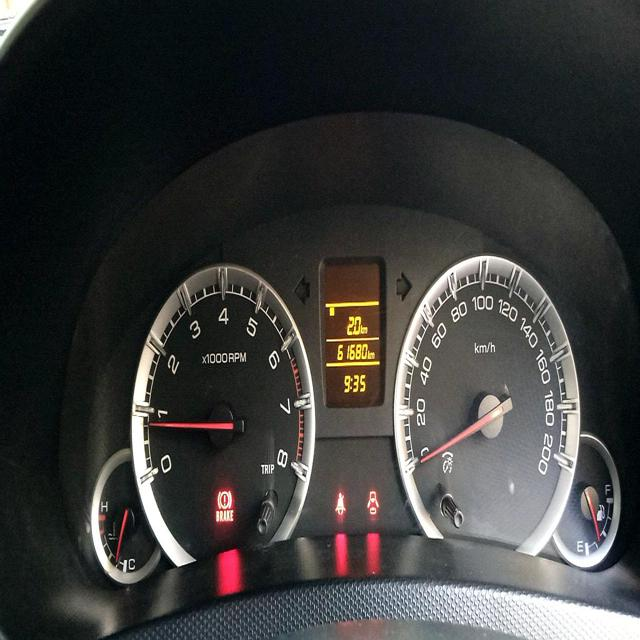odometer: (335, 337, 369, 367)
